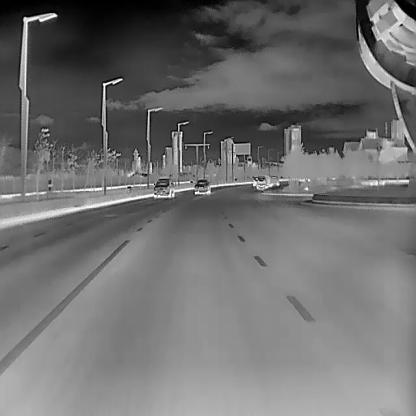car: (153, 176, 174, 197), (192, 178, 210, 194), (256, 174, 267, 188), (262, 174, 273, 188), (271, 174, 278, 187), (253, 176, 260, 186)
